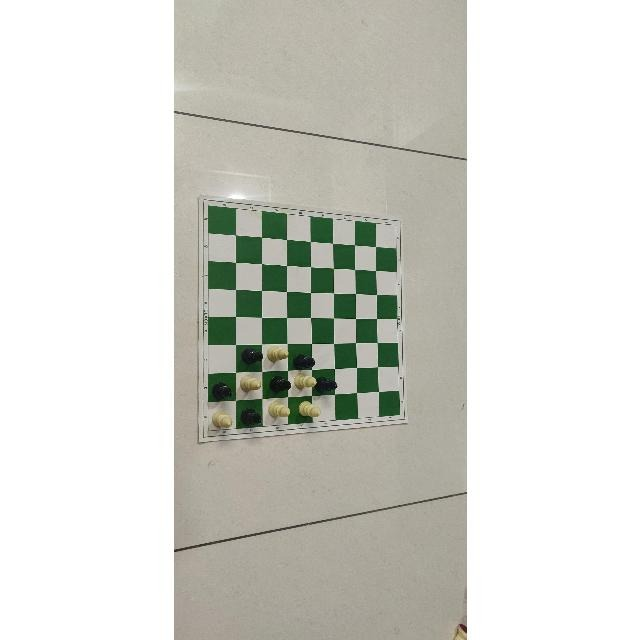black-bishop: (240, 347, 262, 364), (211, 382, 231, 400), (240, 408, 260, 426), (293, 354, 315, 370), (269, 376, 291, 392), (315, 376, 337, 392)
white-bishop: (297, 400, 320, 417), (267, 400, 290, 417), (211, 410, 231, 428), (266, 346, 288, 362), (293, 373, 315, 389), (240, 374, 260, 391)
